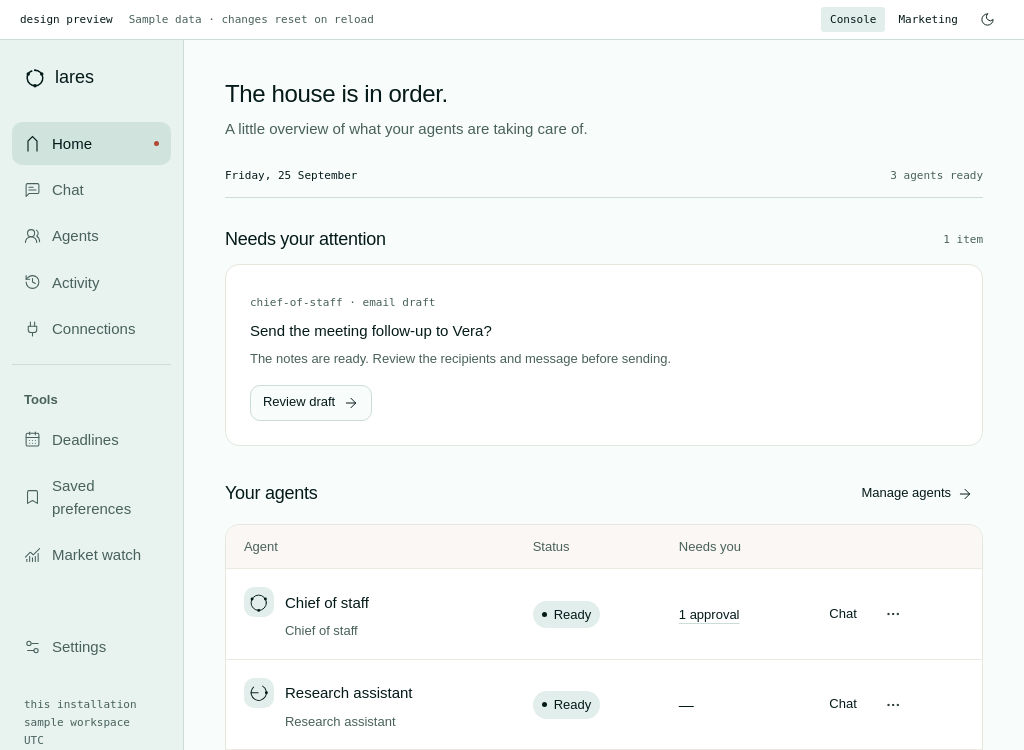
Scenario: standalone preview journeys › records a sample approval without claiming that an email was sent
Click the button "Review draft" at (311, 403), box [250, 385, 372, 421]
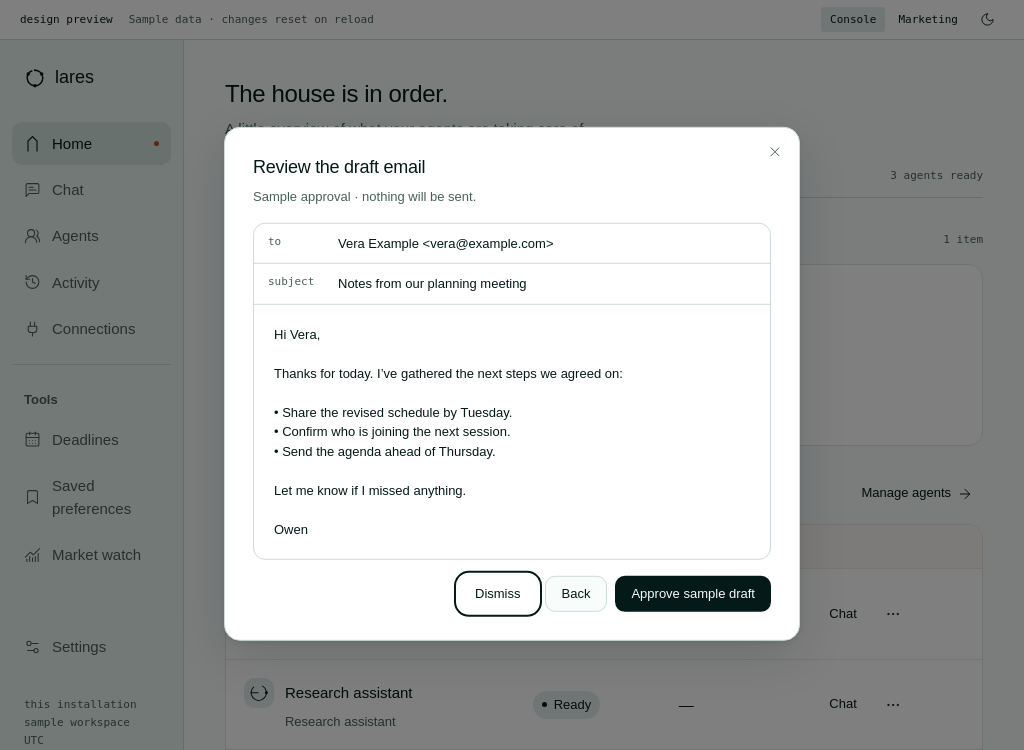
Result: the text "Vera Example <vera@example.com>" is shown at [338, 236, 554, 251]
Click the button "Approve sample draft" at (693, 594), box [615, 576, 771, 612]
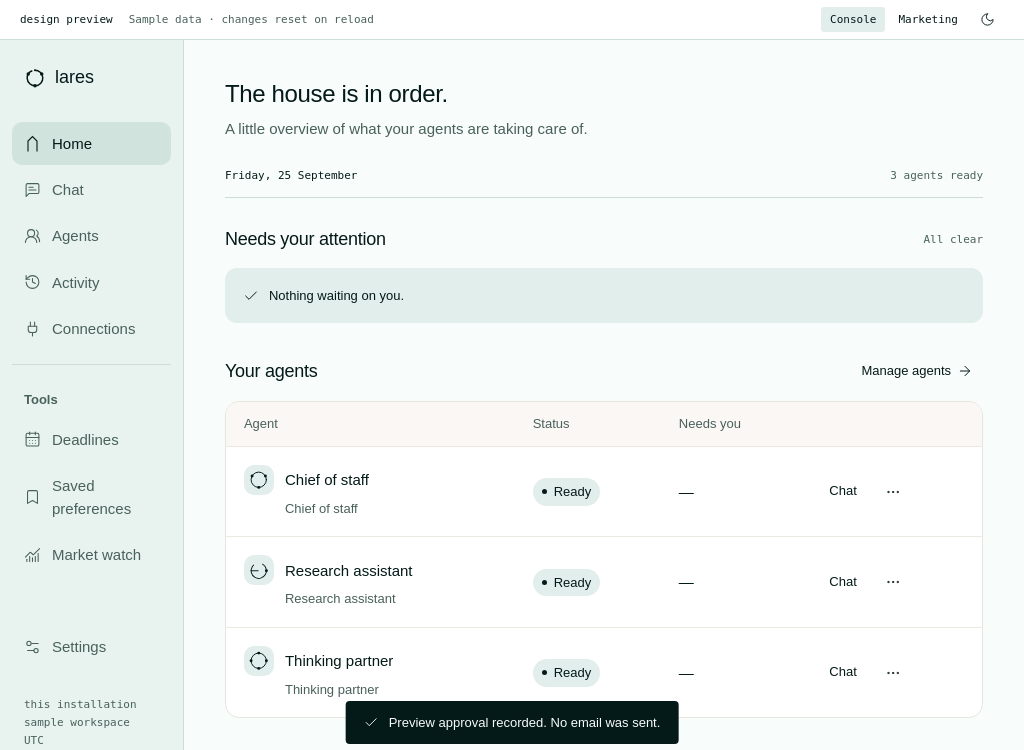
Result: the text "Nothing waiting on you." is shown at [225, 268, 983, 323]
Result: the message shows "No email was sent" at [389, 714, 660, 730]
